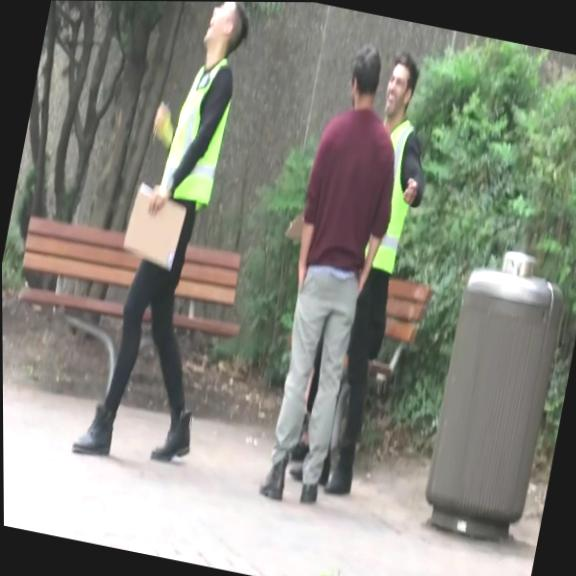safety_vest: (157, 49, 239, 214), (359, 107, 427, 276)
